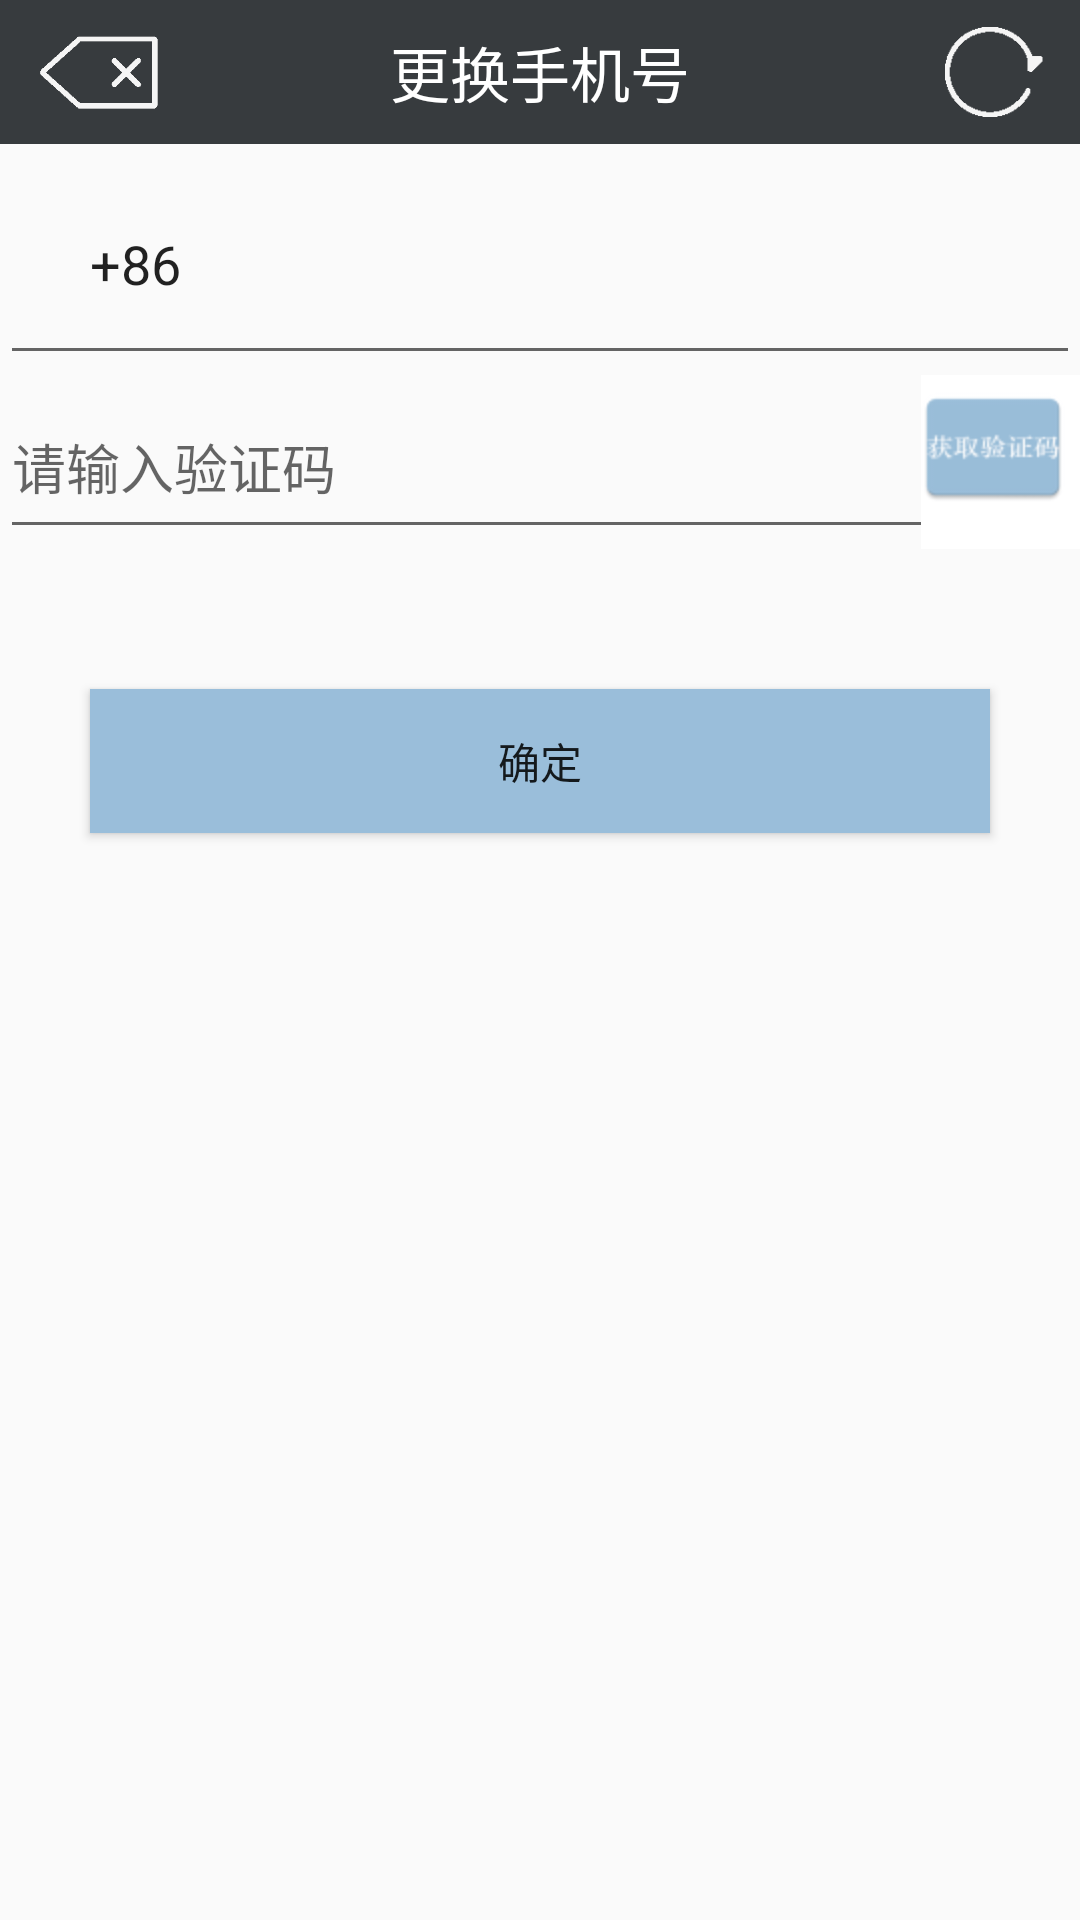

Where to tap for icons on this 1080 x 1920 app screen, as [x,y]:
shuaxin: [994,72]
